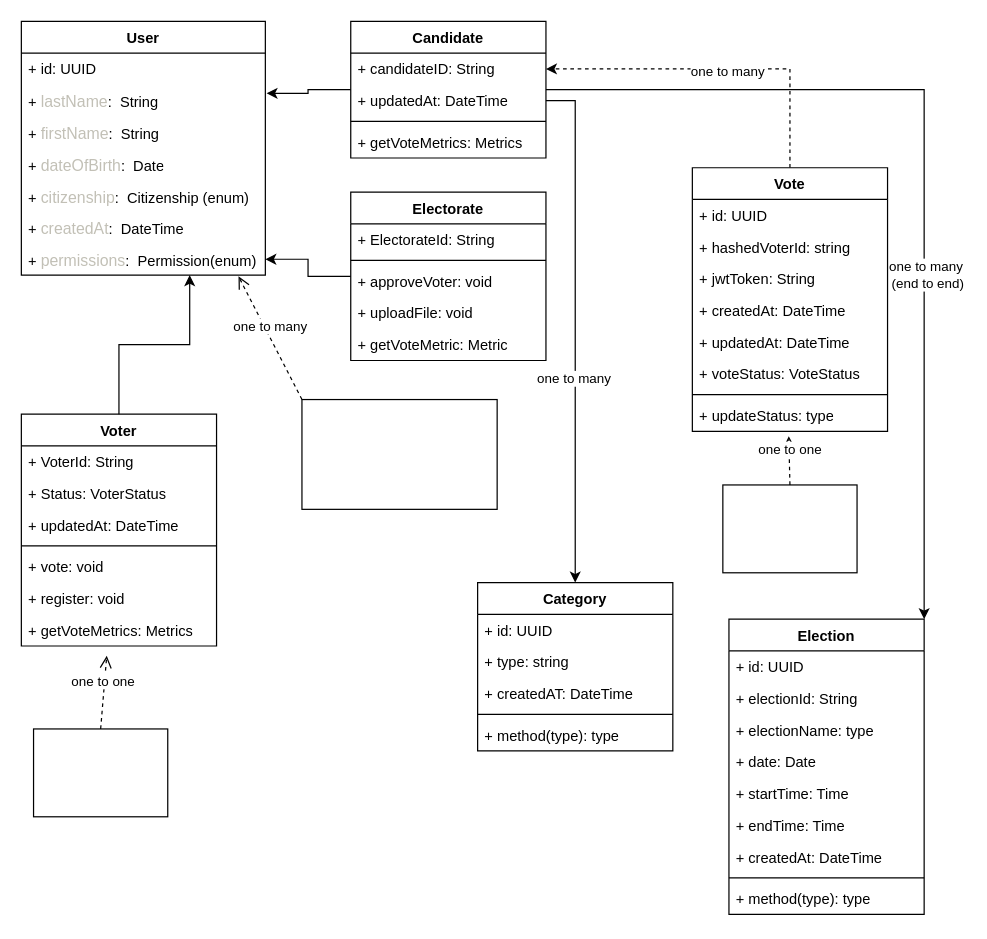
Image size: 987x939. Some labels were removed from this diagram. Here are the shapes that lost their labels. From the top down, the centre of each, then its label:
At (399,453): "«enumeration» Permission - CAN_VOTE - CAN_UPLOAD_FILE - CAN_VIEW_METRICS".
At (789,528): "«enumeration» VoteStatus - DEFAULTED - VOTED".
At (100,772): "«enumeration» VotersStatus - PENDING - APPROVED".
